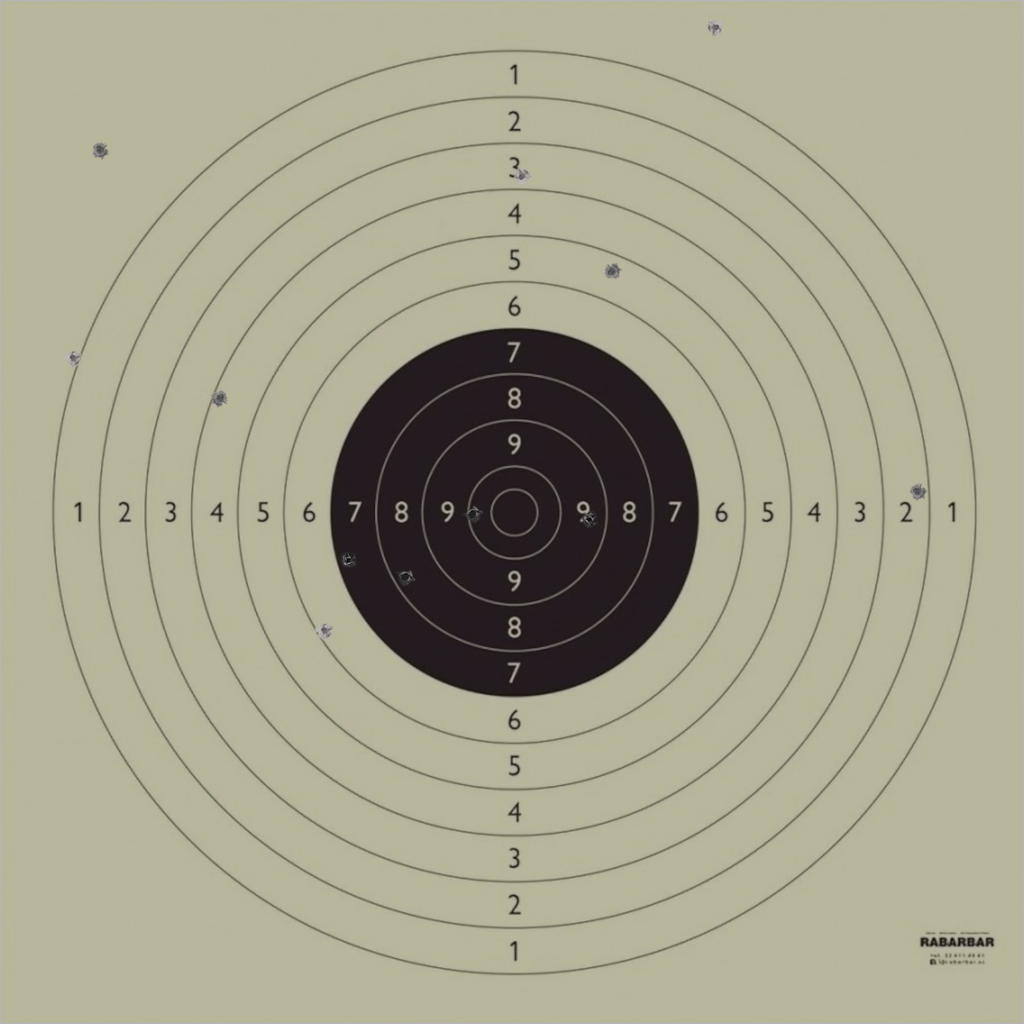0 punktow: (91, 141, 109, 159)
1 punkt: (64, 349, 83, 367)
10 punktow: (464, 505, 482, 523)
2 punkty: (908, 482, 927, 501)
3 punkty: (513, 167, 531, 186)
4 punkty: (211, 389, 229, 407)
5 punktow: (603, 262, 621, 281)
6 punktow: (315, 621, 334, 640)
7 punktow: (339, 551, 357, 570)
8 punktow: (396, 568, 415, 586)
9 punktow: (580, 510, 598, 529)
